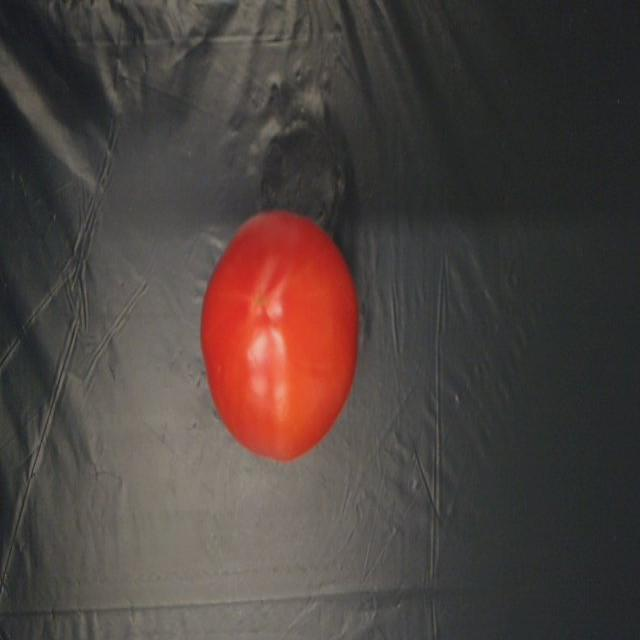kirmizi: (192, 164, 388, 482)
